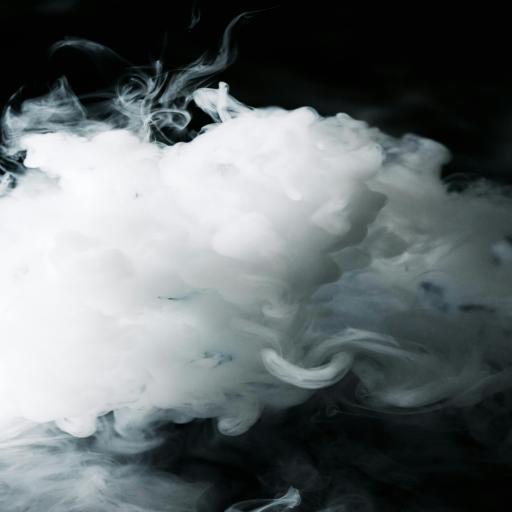smoke: (0, 68, 512, 490)
